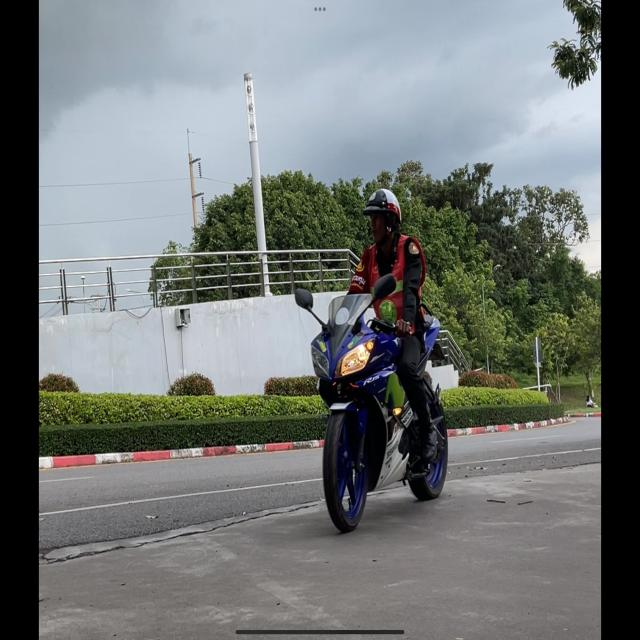no-seatbelt: (362, 186, 403, 249)
